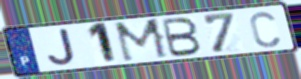1: (86, 21, 120, 65)
7: (200, 12, 239, 55)
B: (160, 16, 204, 59)
C: (248, 10, 282, 49)
J: (46, 27, 77, 68)
M: (112, 16, 171, 64)
